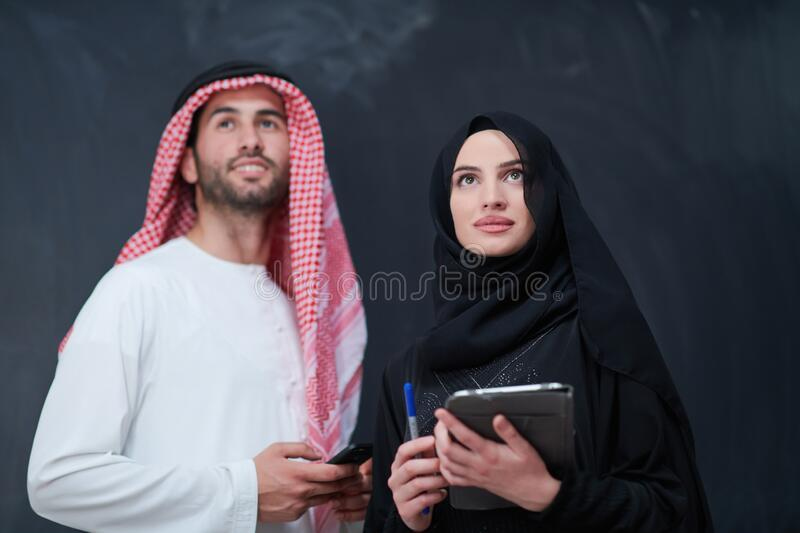No Mask: (173, 82, 336, 270), (440, 120, 571, 309)
